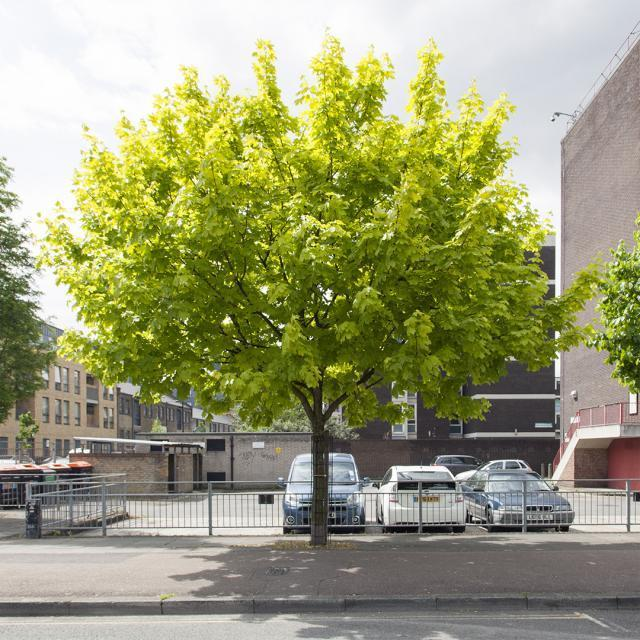tree: (62, 45, 572, 538), (0, 131, 57, 537), (590, 194, 640, 446)
